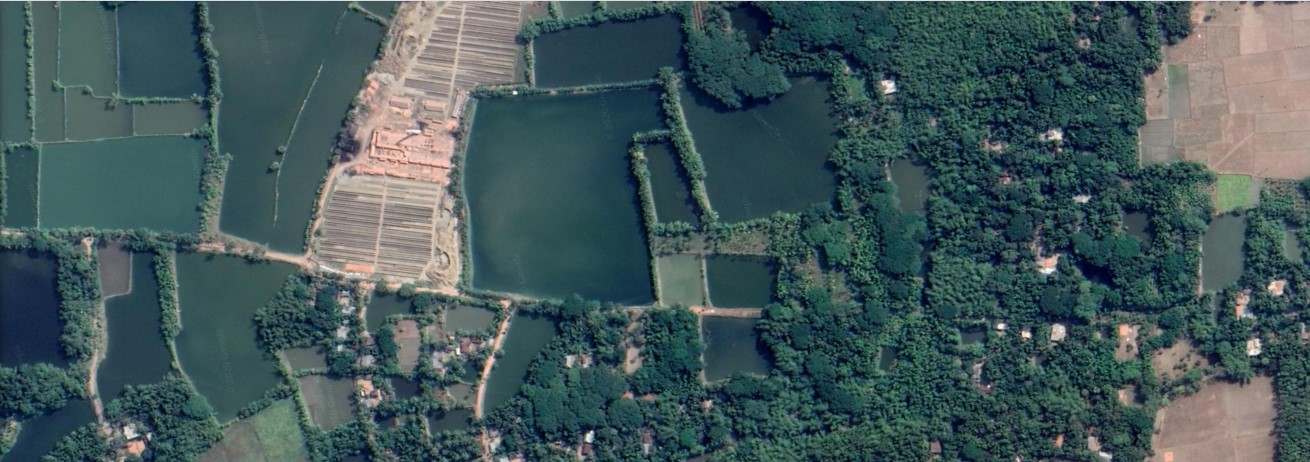kiln: (359, 113, 452, 181)
